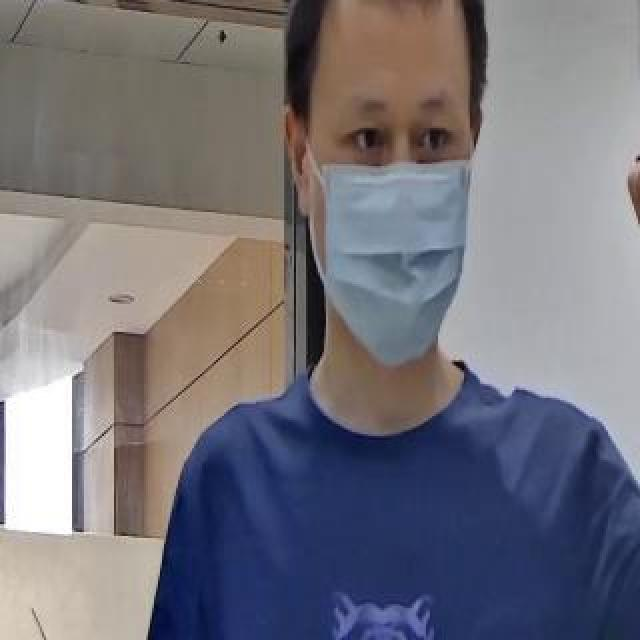Guns: (604, 0, 640, 306)
